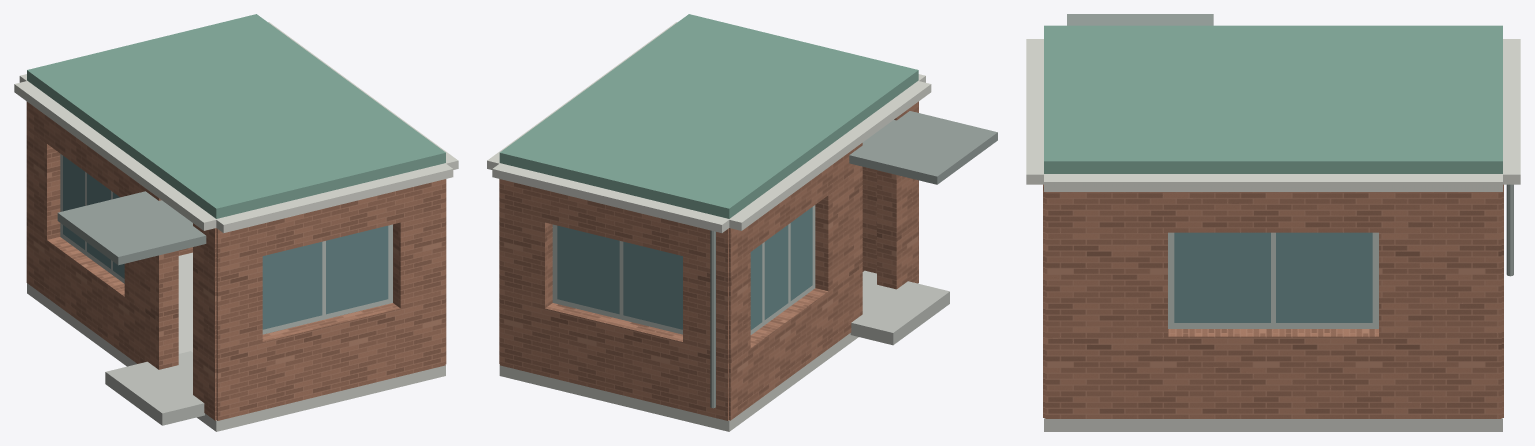
3 renders of one model, left to right at view 1: azimuth 30°, elevation 25°; view 2: azimuth 150°, elevation 25°; view 3: azimuth 270°, elevation 25°, orthographic. The views are drawn at different scales.
Visible parts, largest first — view 1: guard__brick, guard__roof, guard__glass, guard__white, guard__metal, guard__wall, guard__threshold-entry, guard__frame; view 2: guard__brick, guard__roof, guard__glass, guard__white, guard__metal, guard__threshold-entry, guard__wall, guard__frame; view 3: guard__brick, guard__roof, guard__glass, guard__white, guard__wall, guard__frame, guard__metal.
Part boxes in pixels (x1=…): guard__brick: x1=26, y1=101, x2=446, y2=420; guard__roof: x1=27, y1=14, x2=445, y2=218; guard__glass: x1=63, y1=156, x2=388, y2=329; guard__white: x1=14, y1=22, x2=458, y2=233; guard__metal: x1=57, y1=191, x2=206, y2=265; guard__wall: x1=27, y1=252, x2=445, y2=431; guard__threshold-entry: x1=105, y1=351, x2=204, y2=425; guard__frame: x1=60, y1=154, x2=392, y2=334; guard__brick: x1=499, y1=101, x2=918, y2=420; guard__roof: x1=499, y1=14, x2=918, y2=218; guard__glass: x1=557, y1=207, x2=812, y2=330; guard__white: x1=487, y1=22, x2=931, y2=232; guard__metal: x1=710, y1=111, x2=997, y2=408; guard__threshold-entry: x1=850, y1=270, x2=949, y2=345; guard__wall: x1=499, y1=283, x2=918, y2=431; guard__frame: x1=552, y1=205, x2=815, y2=334; guard__brick: x1=1043, y1=184, x2=1503, y2=418; guard__roof: x1=1044, y1=25, x2=1502, y2=173; guard__glass: x1=1174, y1=232, x2=1372, y2=322; guard__white: x1=1026, y1=39, x2=1520, y2=191; guard__wall: x1=1044, y1=418, x2=1502, y2=431; guard__frame: x1=1168, y1=232, x2=1378, y2=328; guard__metal: x1=1067, y1=14, x2=1513, y2=276.
Bounding box in the file's own units: 5.04 × 3.25 × 5.38.
Materials: 8 (1 with a texture image).
